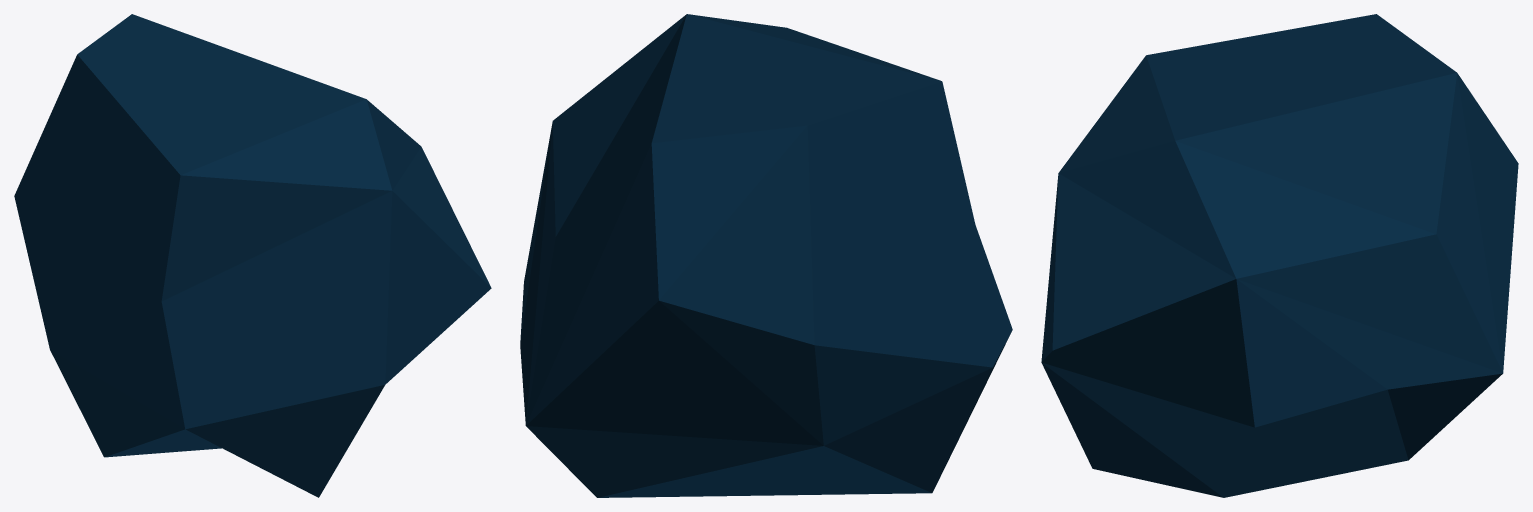
The model's file is Stone.glb.
The picture shows the model from 3 angles, left to right: view 1: azimuth 30°, elevation 25°; view 2: azimuth 150°, elevation 25°; view 3: azimuth 270°, elevation 25°; orthographic projection. The views are drawn at different scales.
Visible parts, largest first — view 1: Cave_stone_004; view 2: Cave_stone_004; view 3: Cave_stone_004.
Part boxes in pixels (bbox=[...]): Cave_stone_004: bbox=[14, 14, 491, 497]; Cave_stone_004: bbox=[520, 14, 1012, 497]; Cave_stone_004: bbox=[1041, 14, 1518, 497].
Size of the model in its own units: 0.6649 by 0.6179 by 0.6682.
